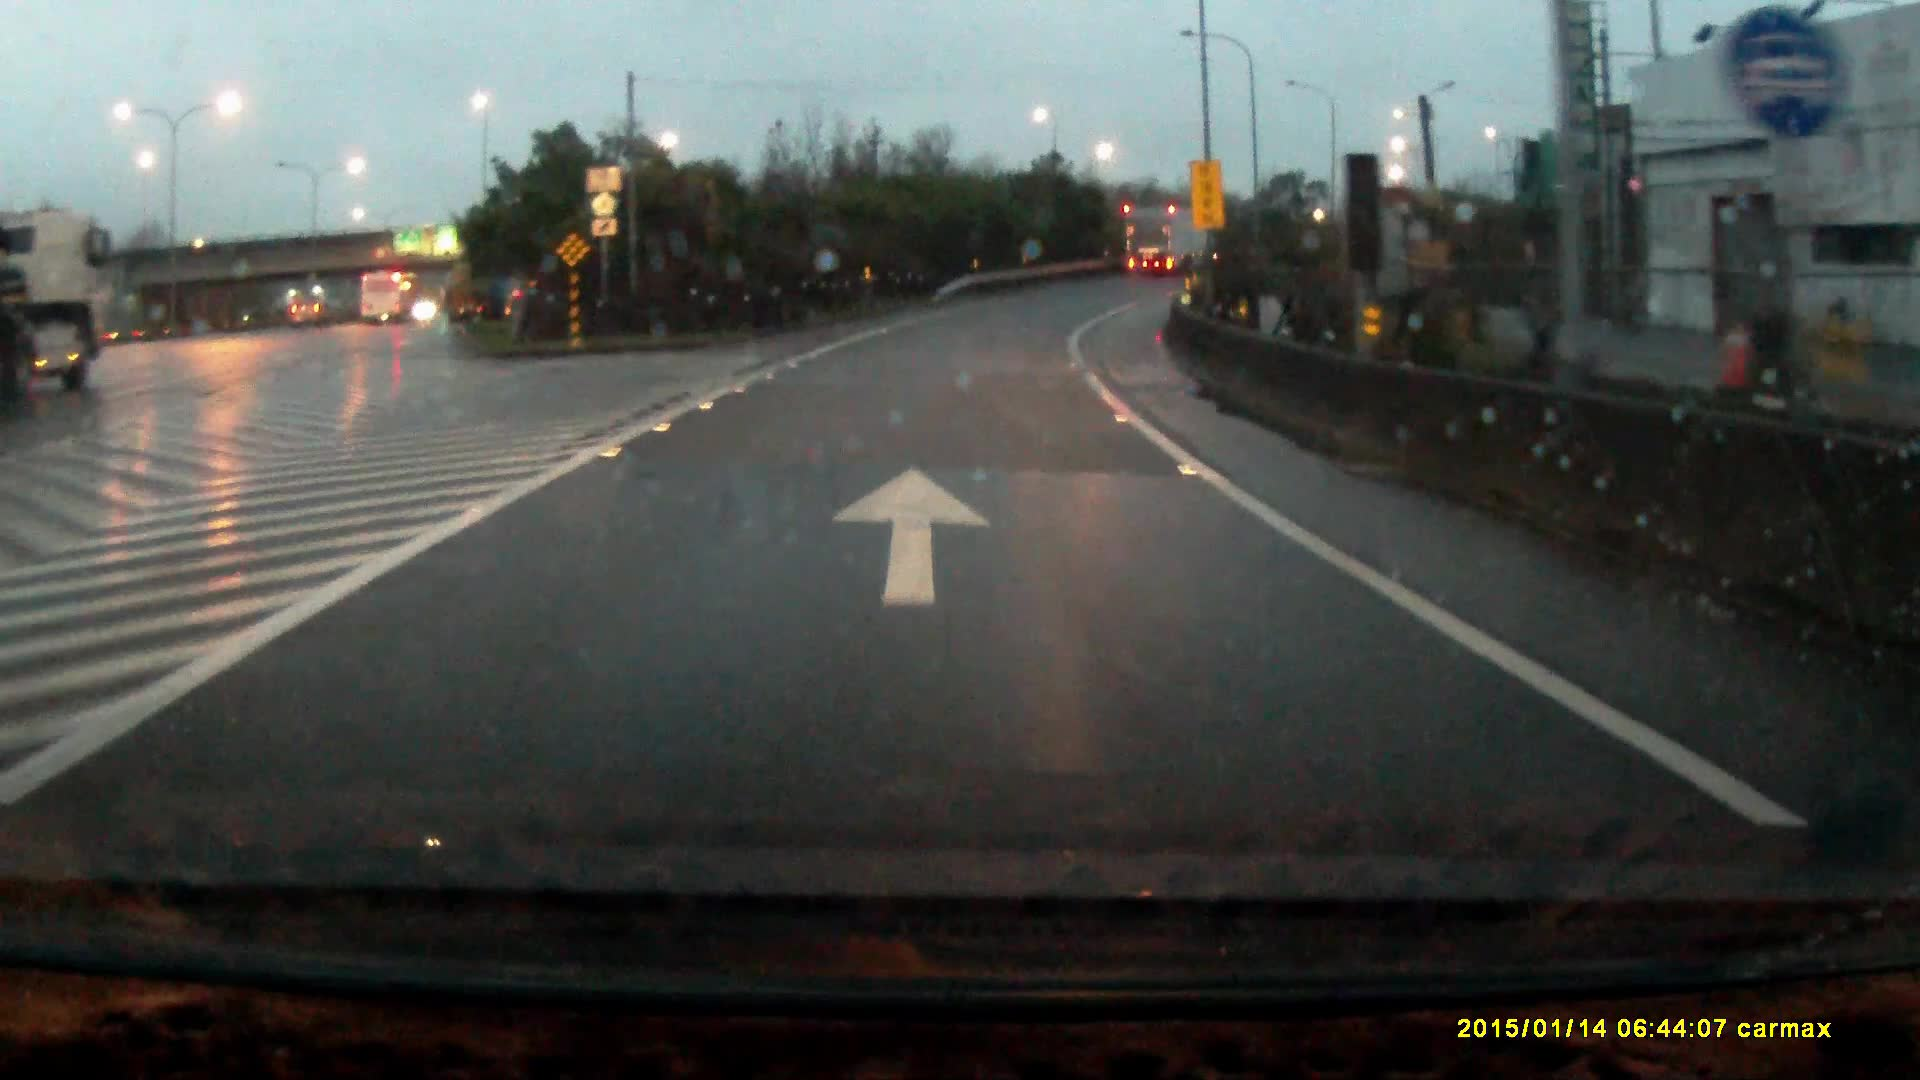vehicle: (1, 208, 117, 400), (1121, 204, 1222, 280), (360, 273, 415, 328), (291, 301, 324, 331)
